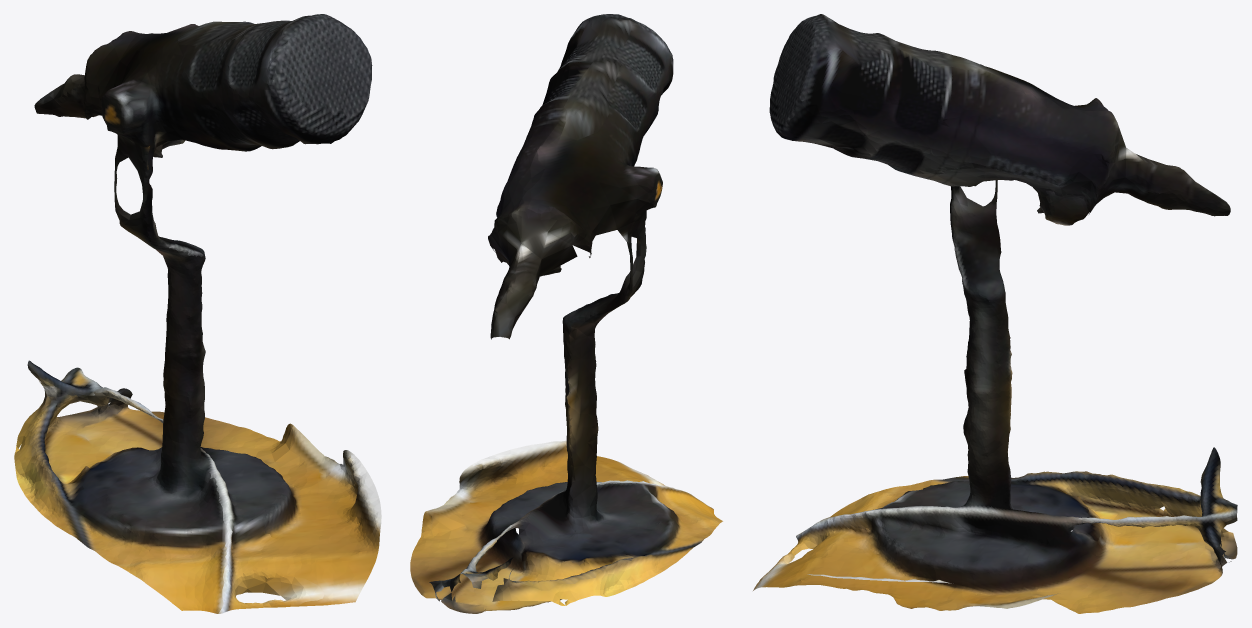
3 renders of one model, left to right at view 1: azimuth 30°, elevation 25°; view 2: azimuth 150°, elevation 25°; view 3: azimuth 270°, elevation 25°, orthographic. The views are drawn at different scales.
Parts seen in each view (by area): view 1: mesh; view 2: mesh; view 3: mesh.
Boxes of the visible parts, x1=… form: mesh: x1=14, y1=14, x2=381, y2=613; mesh: x1=410, y1=14, x2=722, y2=613; mesh: x1=753, y1=14, x2=1237, y2=613.
Size of the model in its own units: 0.1251 by 0.2469 by 0.1927.
Materials: 1 (1 with a texture image).
